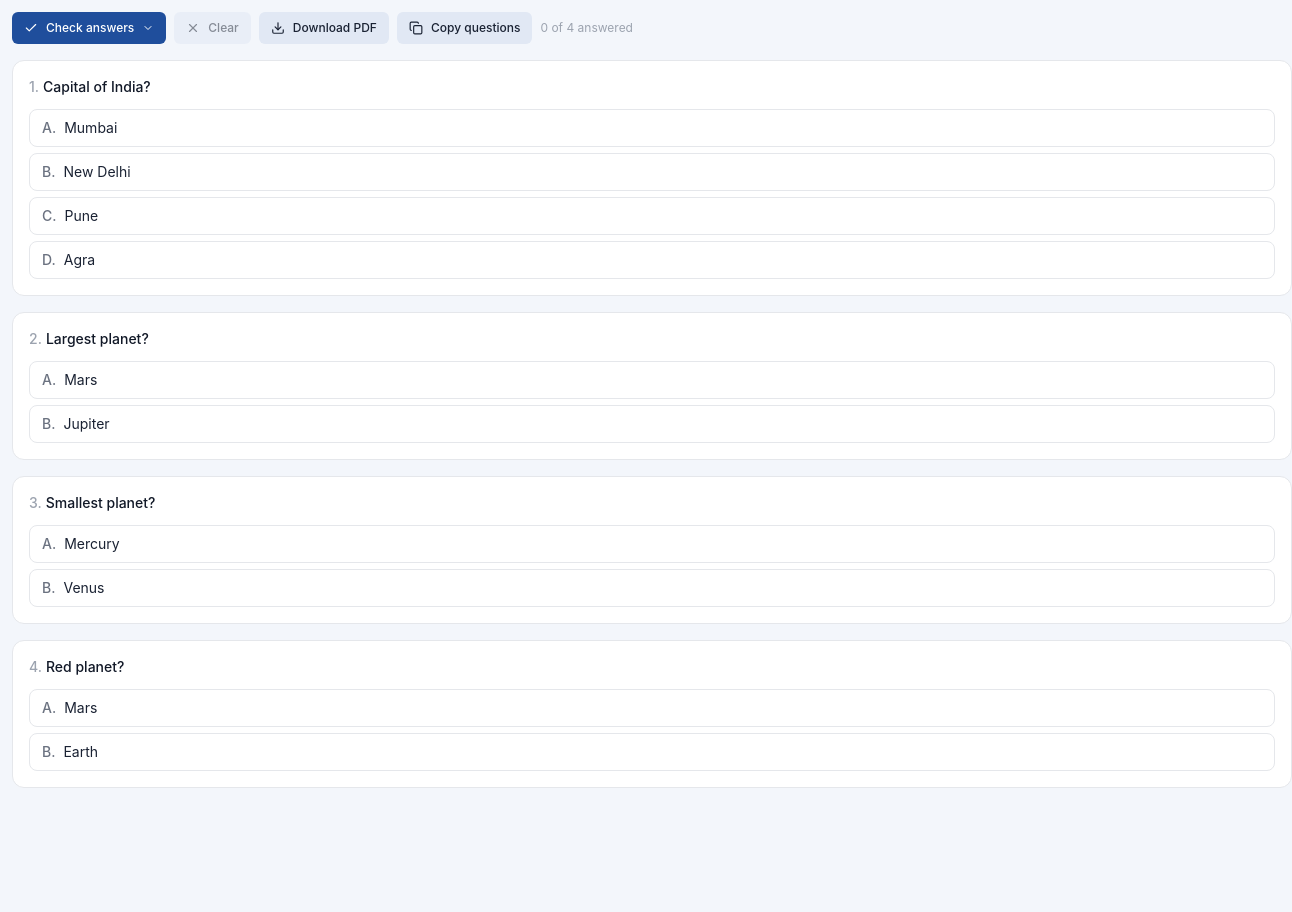
Scenario: Check answers › 'Check answered' is unavailable until something is answered
Click the button "Check answers" at (89, 28), box [12,12,166,44]
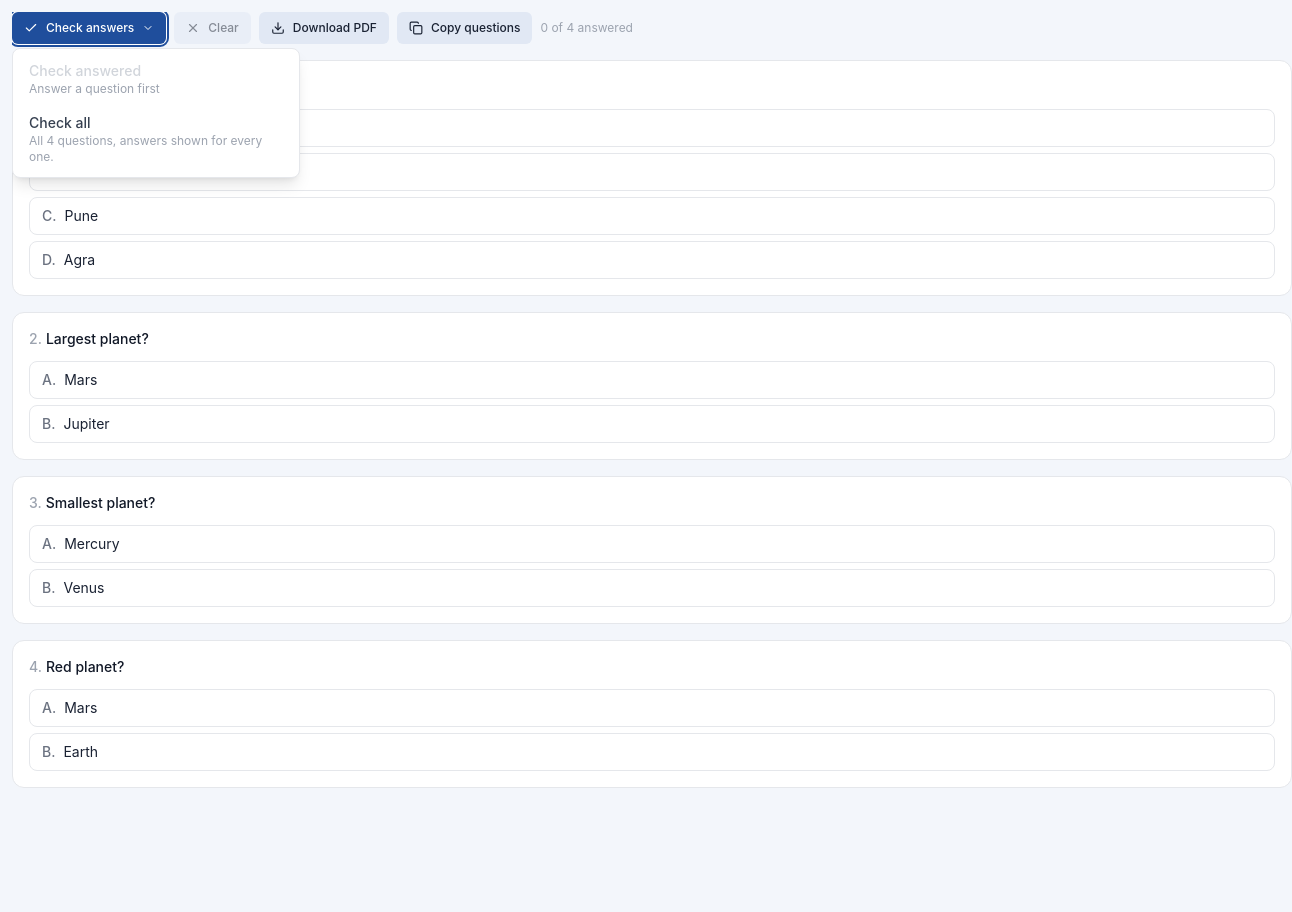
expect the menu item "Check answered Answer a question first" is disabled: met, box [13,53,299,105]
